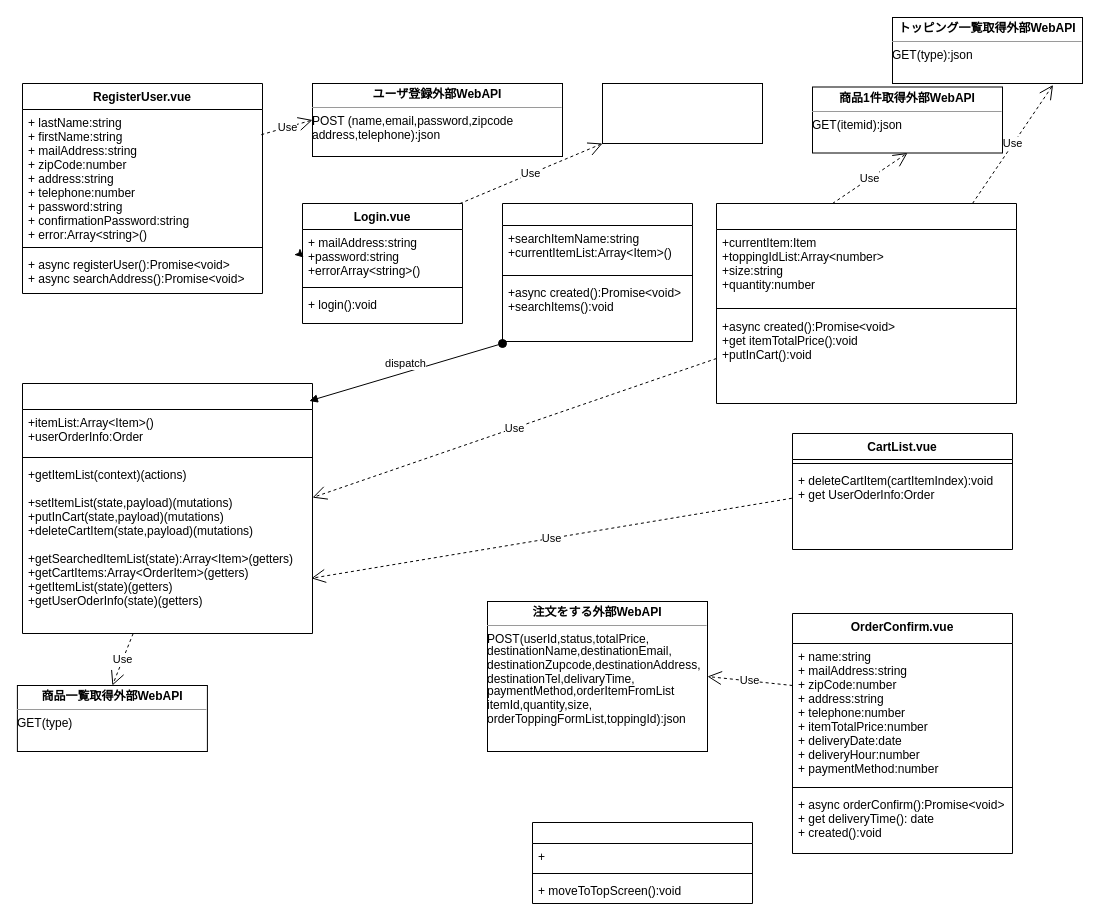
Some shapes in this 1101 by 924 pixel diagram are drawn without their labels. Here are the shapes that lost their labels. From the top down, the box of each, then its label:
(602, 82, 762, 144): ログイン実行外部WebAPI POST(email,password ):json
(502, 202, 692, 342): ItemList.vue
(716, 202, 1016, 404): ItemDetail.vue
(22, 382, 312, 634): Vuexストア(index.ts)
(532, 822, 752, 904): OrderFinished.vue
